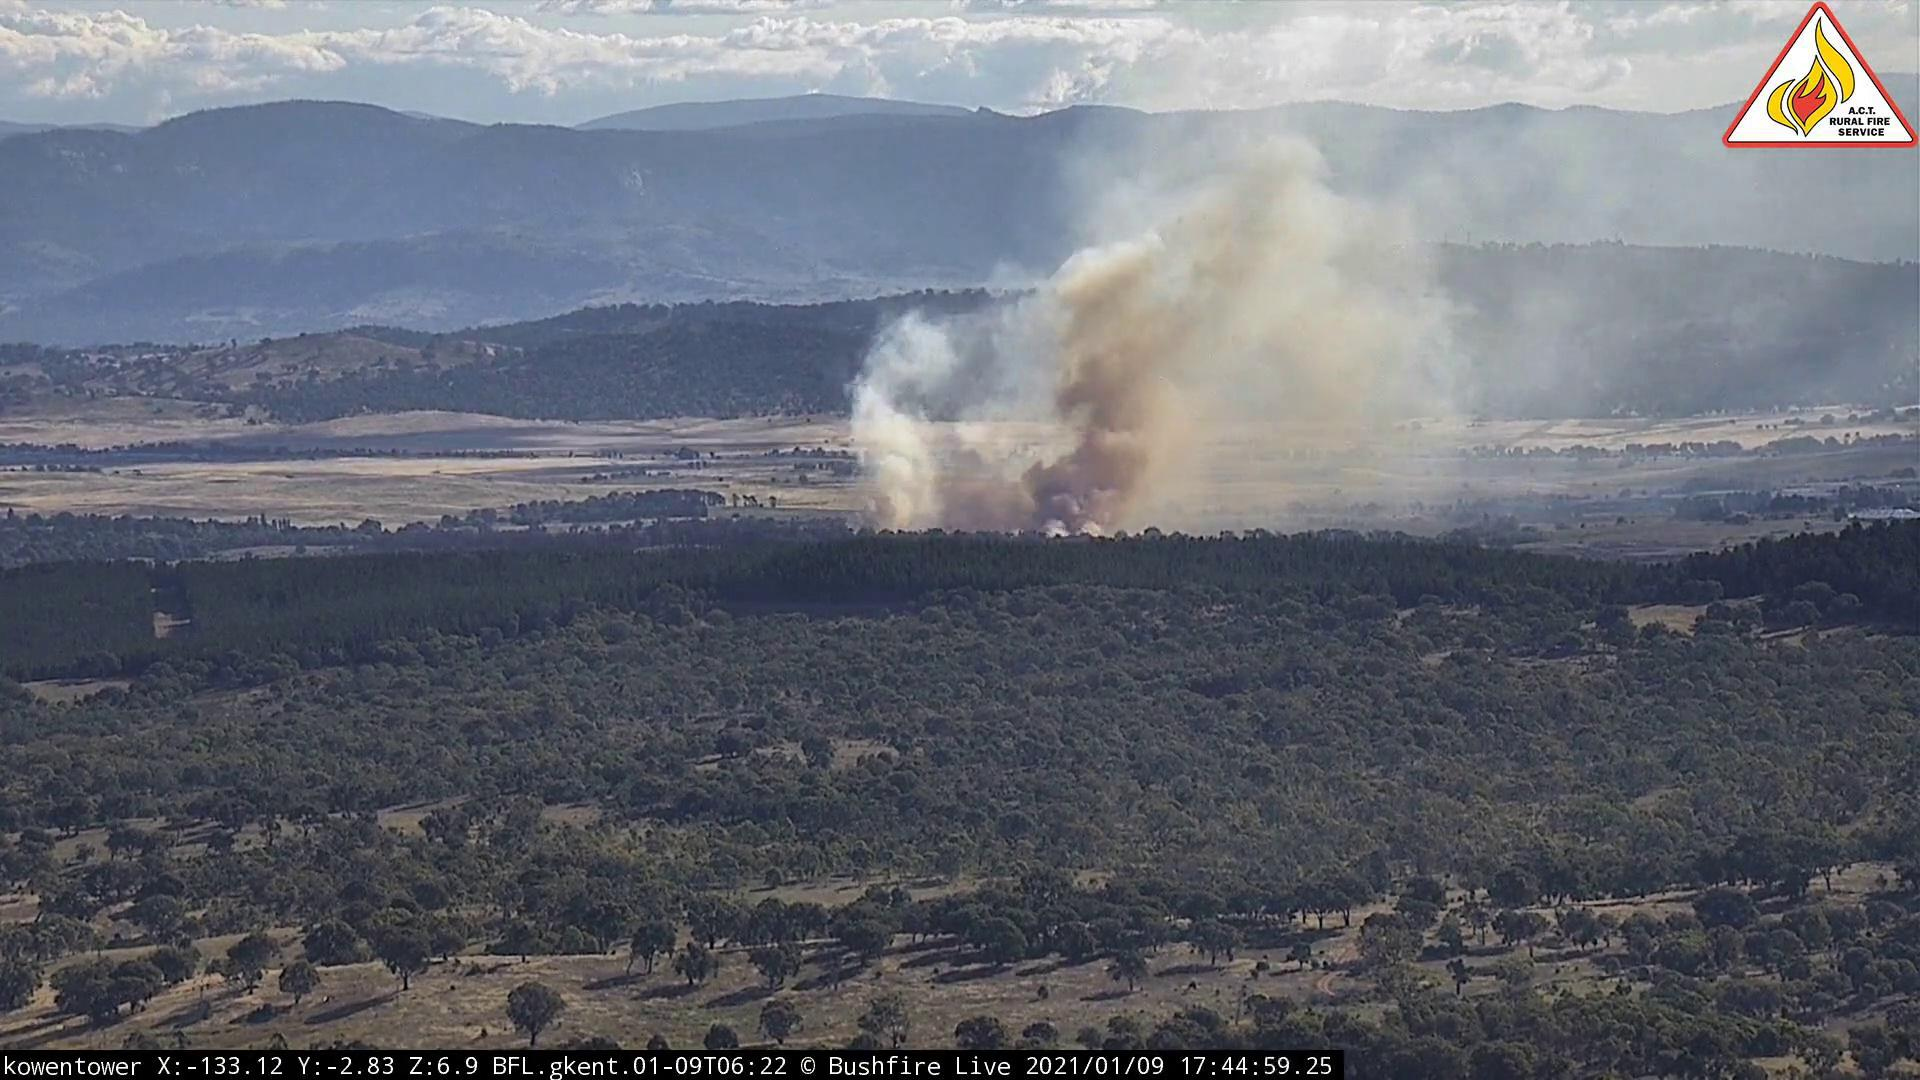instance_salient_object: (793, 75, 1720, 550)
